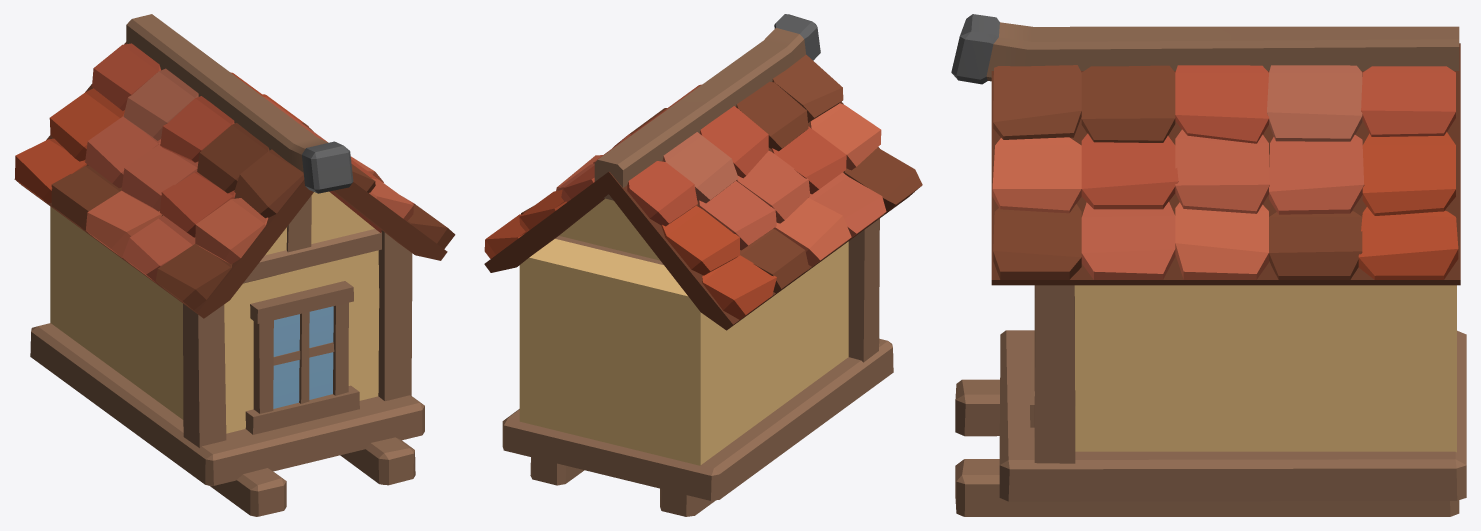
Rendered from House_2Floor_Side_K.fbx.
The picture shows the model from 3 angles, left to right: view 1: azimuth 30°, elevation 25°; view 2: azimuth 150°, elevation 25°; view 3: azimuth 270°, elevation 25°; orthographic projection. The views are drawn at different scales.
Parts seen in each view (by area): view 1: House_2Floor_Side_K; view 2: House_2Floor_Side_K; view 3: House_2Floor_Side_K.
Part boxes in pixels (left/top/right/bottom): House_2Floor_Side_K: left=14, top=14, right=455, bottom=516; House_2Floor_Side_K: left=484, top=14, right=922, bottom=516; House_2Floor_Side_K: left=951, top=14, right=1466, bottom=516.
Size of the model in its own units: 156 by 189 by 198.
